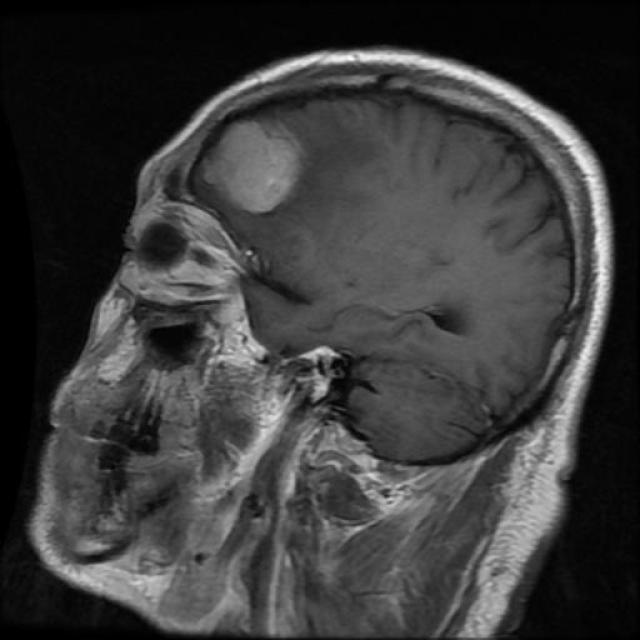meningioma: (202, 121, 300, 215)
